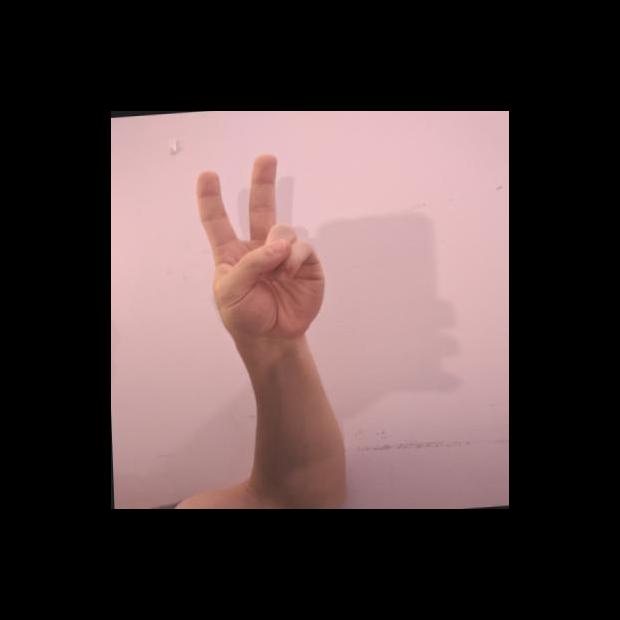U: (191, 149, 330, 346)
